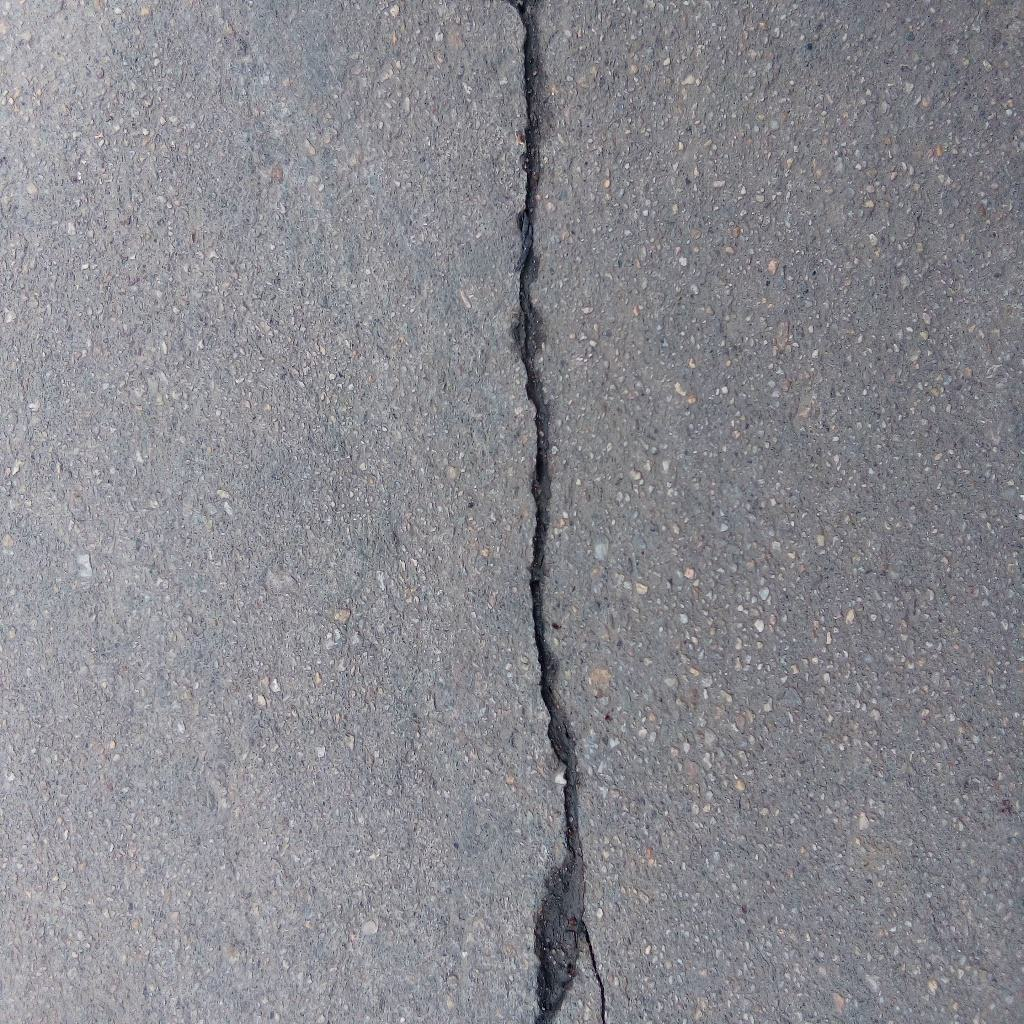Crack: (509, 1, 609, 1024)
